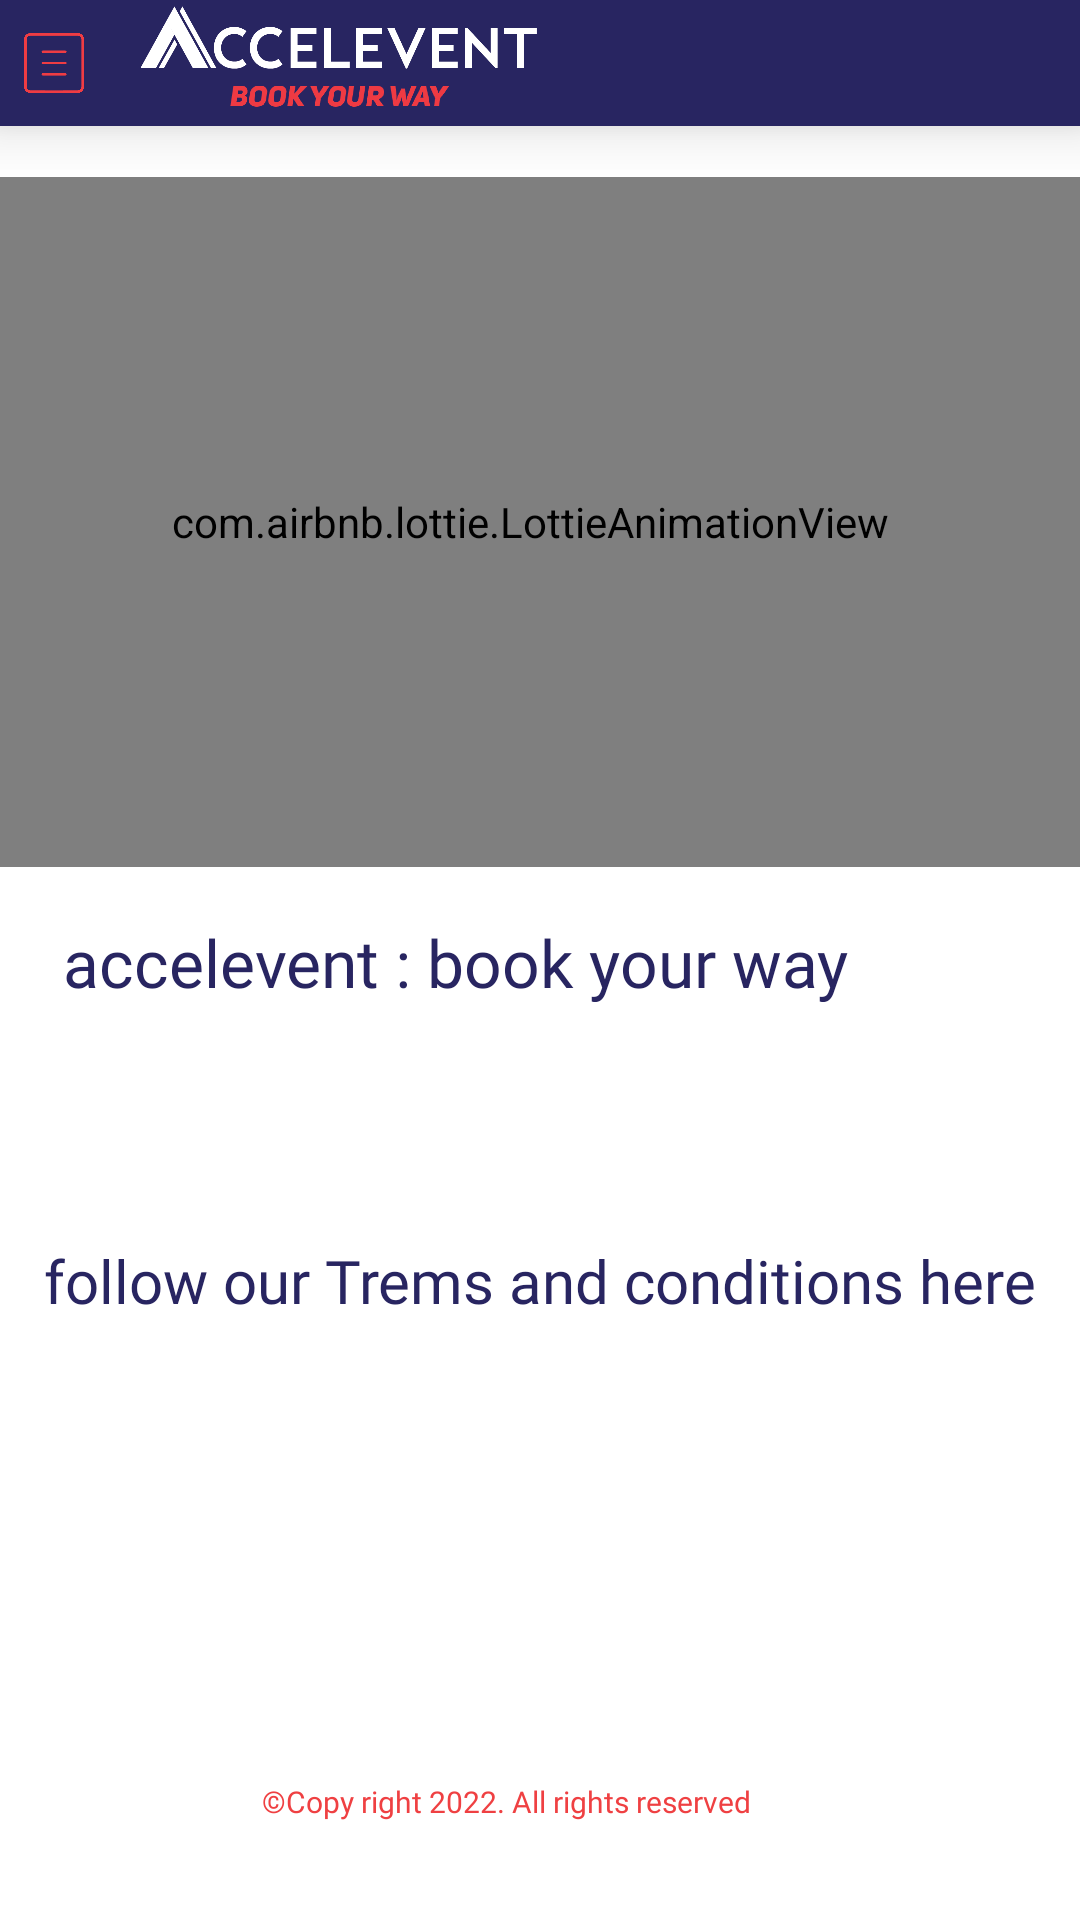

Point at icon controls on the screen. Image size 1080px x 1920px, points as (x,y).
handburger: (54,63)
